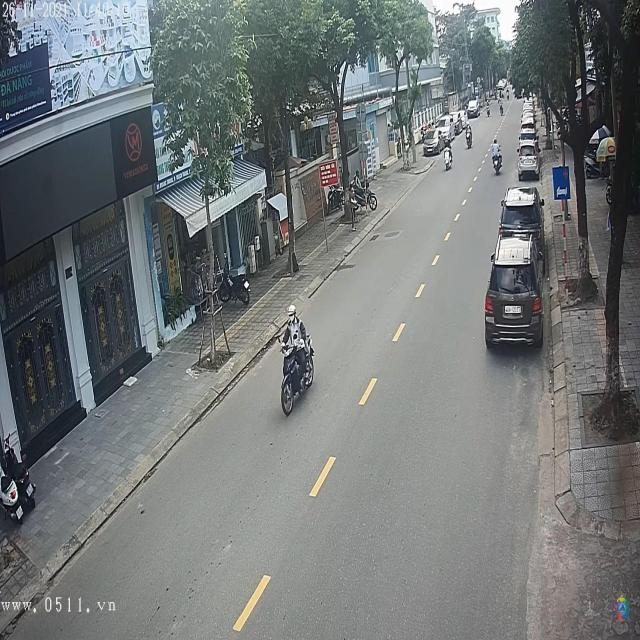car: (485, 234, 544, 349), (500, 186, 544, 241), (516, 146, 540, 180), (517, 130, 537, 148), (518, 126, 536, 142)
motorcycle: (280, 337, 316, 422), (492, 150, 505, 174), (443, 145, 454, 170), (465, 129, 474, 148)
